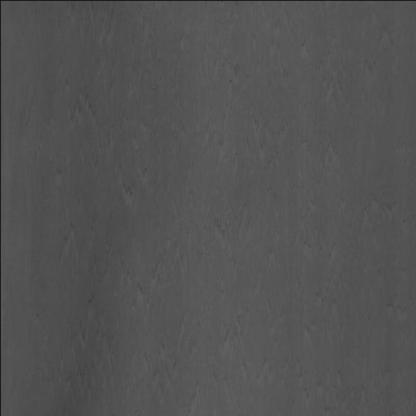silk_spot: (102, 86, 185, 348), (196, 88, 273, 354), (37, 87, 94, 359)
